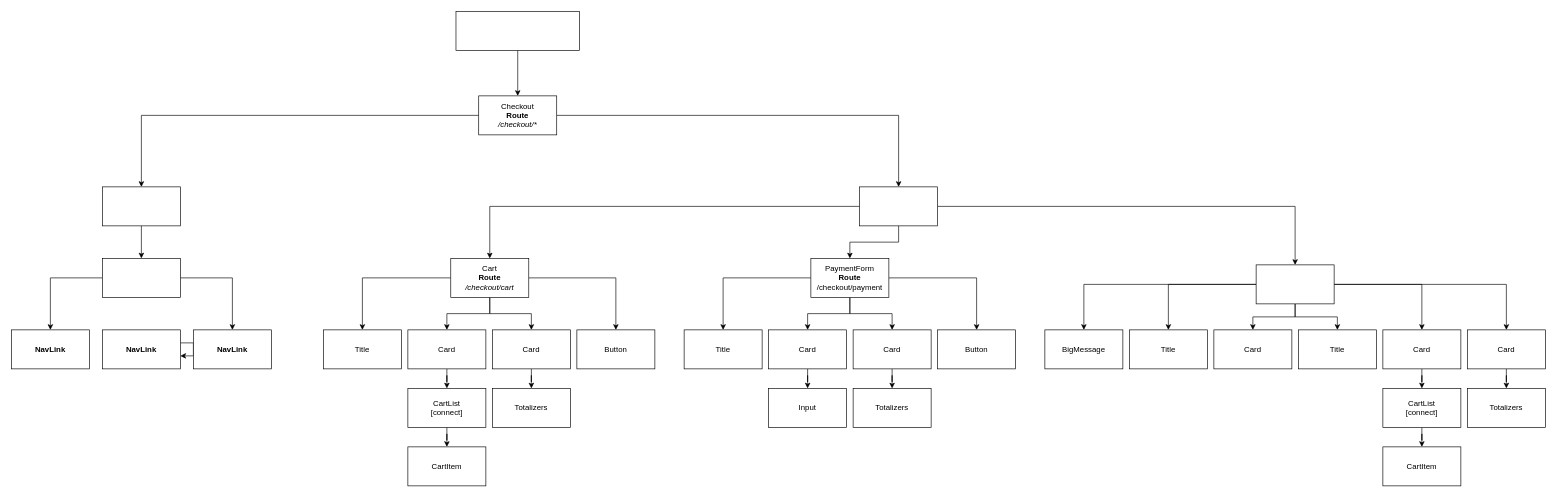
Image size: 1557x497. Some labels were removed from this diagram. The shapes that lost their labels are listed below. From the top down, each one's box as (x1, y1, x2, y2) in pixels, then its label:
(455, 11, 579, 50): App [store] [router]
(102, 186, 180, 226): Header
(859, 186, 938, 226): Switch
(102, 258, 180, 297): CartSteps
(1255, 264, 1334, 304): Confirmation Route /checkout/placed
